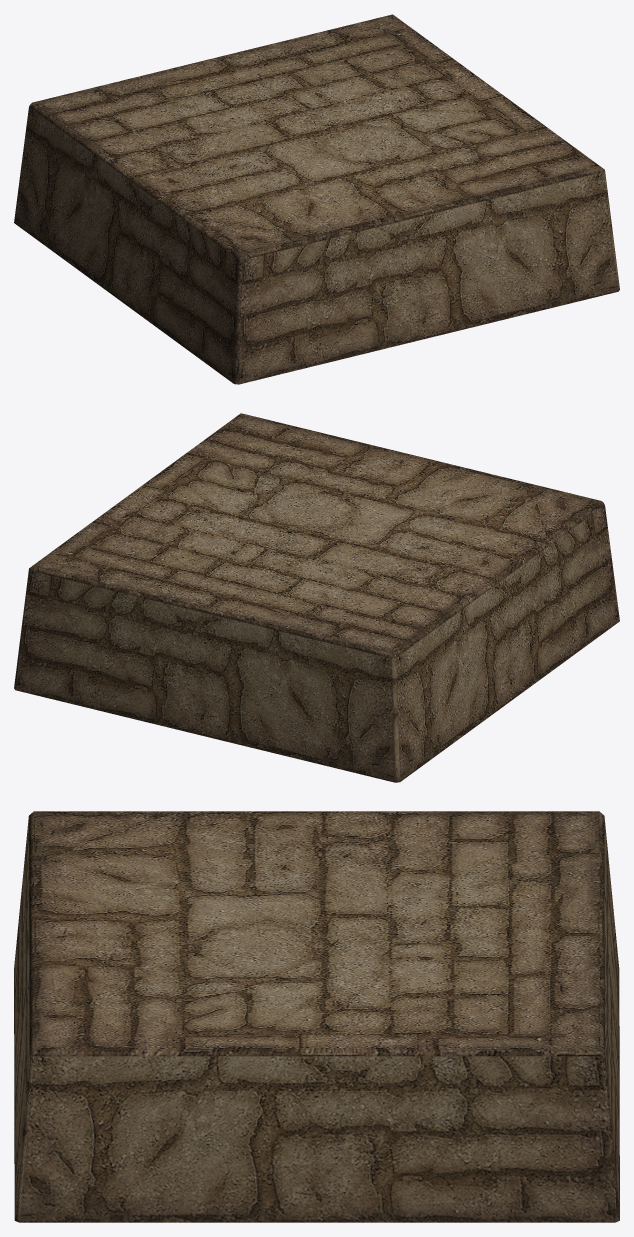
File: Stone_Base_4X4_01.fbx
3 renders of one model, top to bottom at view 1: azimuth 30°, elevation 25°; view 2: azimuth 150°, elevation 25°; view 3: azimuth 270°, elevation 25°, orthographic. The views are drawn at different scales.
Parts seen in each view (by area): view 1: Stone_Base_4X4_01; view 2: Stone_Base_4X4_01; view 3: Stone_Base_4X4_01.
Part boxes in pixels (box(x1,y1,x2,y2)): Stone_Base_4X4_01: box(14, 14, 619, 384); Stone_Base_4X4_01: box(14, 413, 619, 782); Stone_Base_4X4_01: box(14, 811, 619, 1222).
Size of the model in its own units: 4.49 by 1.35 by 4.5.
